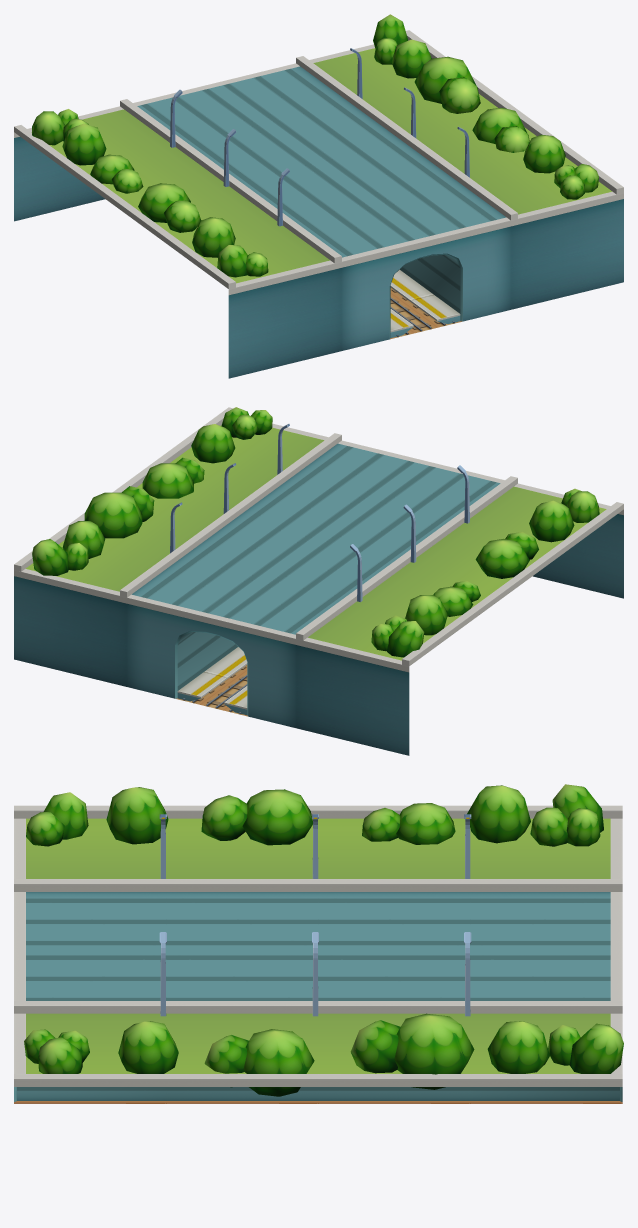
File: Platform02.FBX
3 renders of one model, top to bottom at view 1: azimuth 30°, elevation 25°; view 2: azimuth 150°, elevation 25°; view 3: azimuth 270°, elevation 25°, orthographic. The views are drawn at different scales.
Parts seen in each view (by area): view 1: Tunnel, Plant, Platform, Rail; view 2: Tunnel, Plant, Platform, Rail; view 3: Tunnel, Plant, Rail (×2).
Part boxes in pixels (x1,y1,x2,y2): Tunnel: (14,30,623,378); Plant: (32,14,598,277); Platform: (390,269,460,323); Rail: (390,288,461,339); Tunnel: (14,407,623,755); Plant: (32,407,599,657); Platform: (177,647,247,701); Rail: (175,665,247,716); Tunnel: (14,805,622,1101); Plant: (24,784,623,1096); Rail (×2): (14,1101,622,1103).
Bounding box in the file's own units: 3400 × 1183 × 3207.
